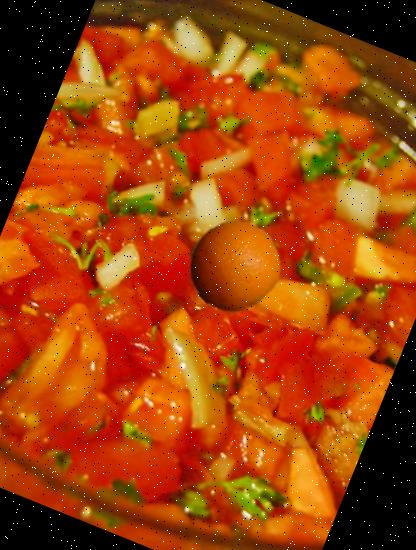Orange: (174, 206, 294, 326)
